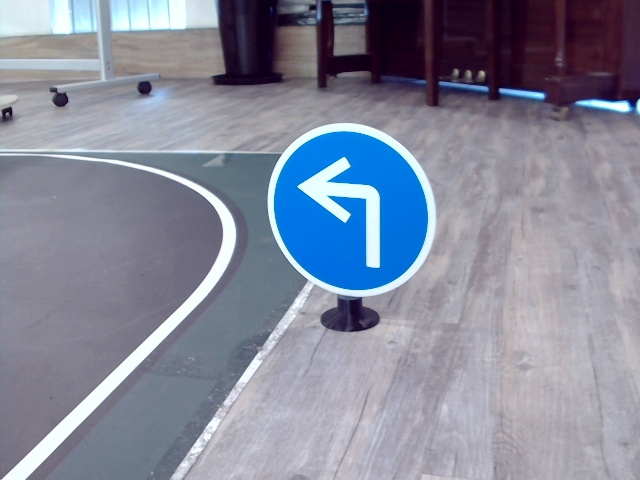turn_left: (292, 152, 394, 269)
